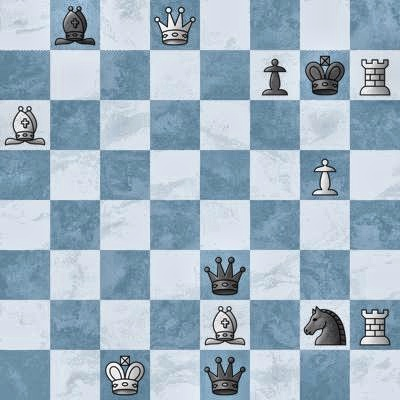black-bishop: (50, 0, 100, 50)
black-king: (300, 50, 350, 100)
black-knight: (300, 300, 350, 350)
black-pawn: (250, 50, 300, 100)
black-queen: (200, 250, 250, 300), (200, 350, 250, 400)
white-bishop: (0, 100, 50, 150), (200, 300, 250, 350)
white-king: (100, 350, 150, 400)
white-pawn: (300, 150, 350, 200)
white-queen: (150, 0, 200, 50)
white-rook: (350, 50, 400, 100), (350, 300, 400, 350)
